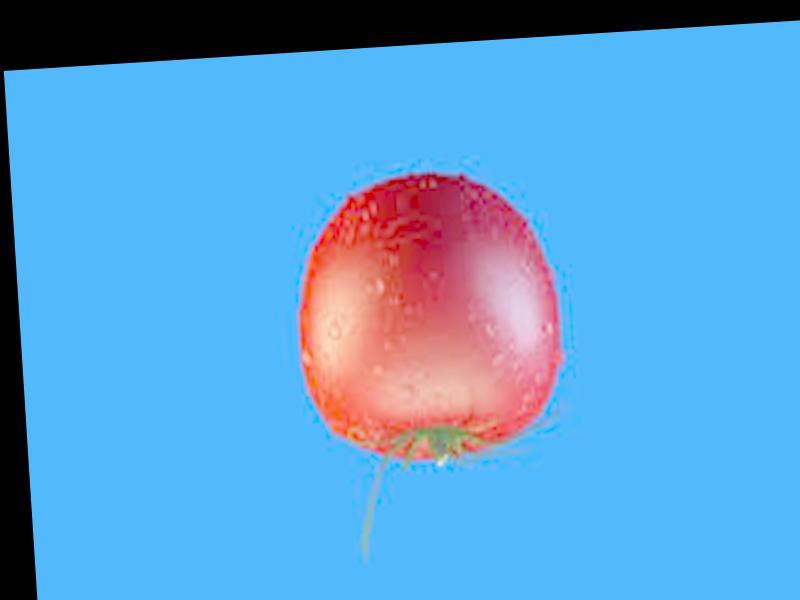Tomato: (289, 164, 570, 469)
